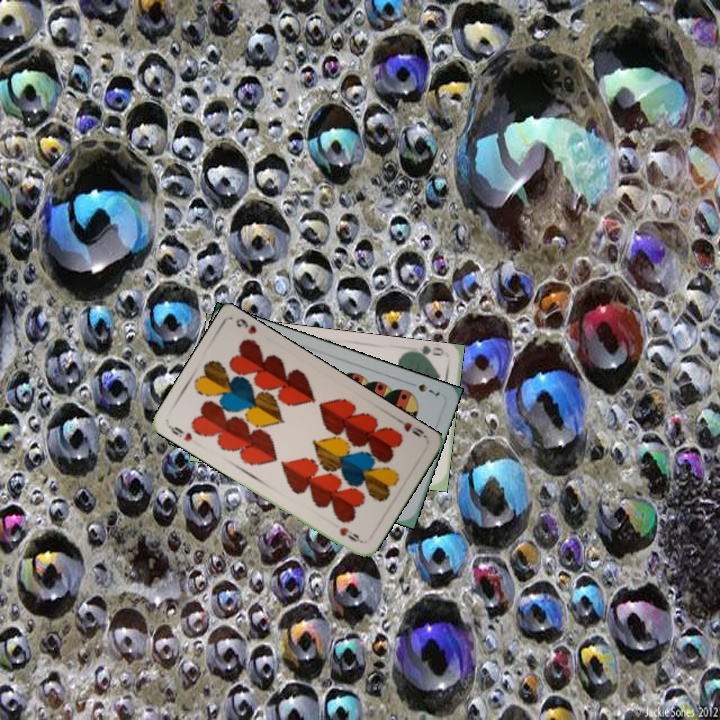GO: (407, 343, 446, 364)
H9: (392, 413, 429, 440), (165, 422, 195, 444)
S7: (404, 378, 443, 399)
